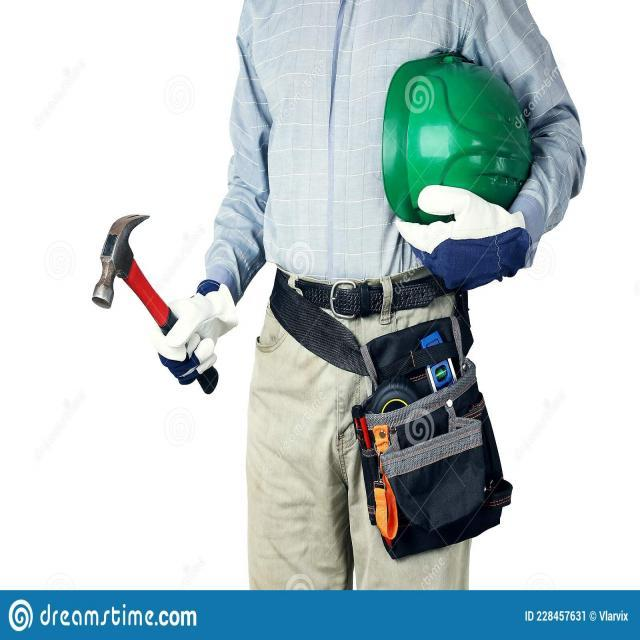hammer: (84, 204, 226, 404)
